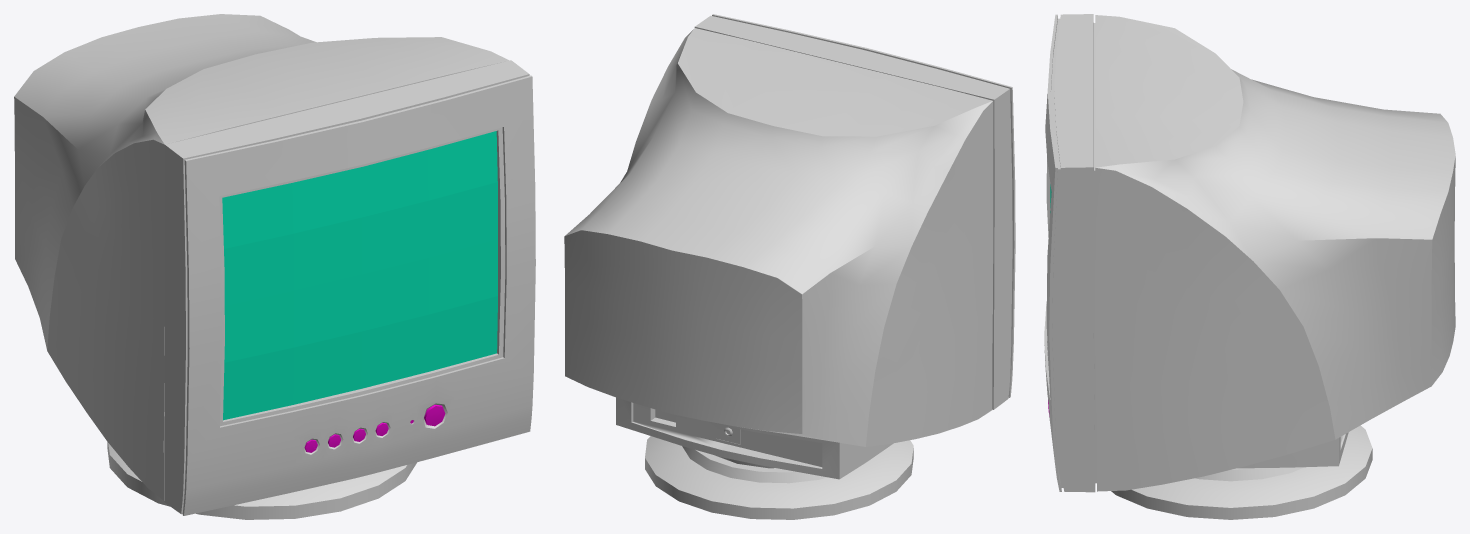
File: SM_Monitor.fbx
3 renders of one model, left to right at view 1: azimuth 30°, elevation 25°; view 2: azimuth 150°, elevation 25°; view 3: azimuth 270°, elevation 25°, orthographic. The views are drawn at different scales.
Visible parts, largest first — view 1: crt_monitor; view 2: crt_monitor; view 3: crt_monitor.
Part boxes in pixels (left/top/right/bottom): crt_monitor: left=14, top=14, right=535, bottom=519; crt_monitor: left=564, top=14, right=1015, bottom=519; crt_monitor: left=1044, top=14, right=1455, bottom=519.
Bounding box in the file's own units: 44.77 × 50.29 × 50.76.
